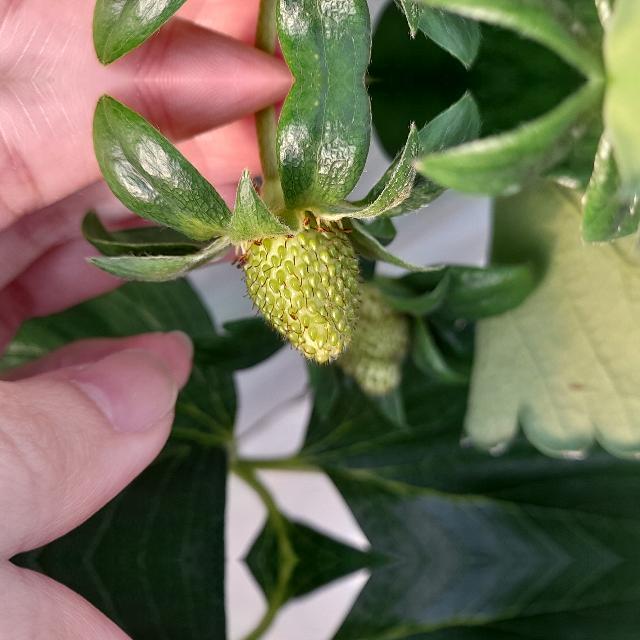Health_25: (240, 227, 364, 367)
